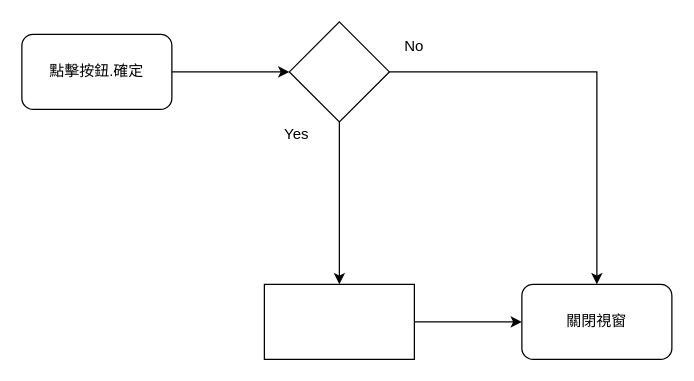
Some shapes in this 694 by 381 pixel diagram are drawn without their labels. Here are the shapes that lost their labels. From the top down, the centre of each, then its label:
(x=338, y=71): 主題樣式 有變更
(x=338, y=321): 彈跳視窗提示訊息: 修改主題樣式會在您下一次登入系統時生效
